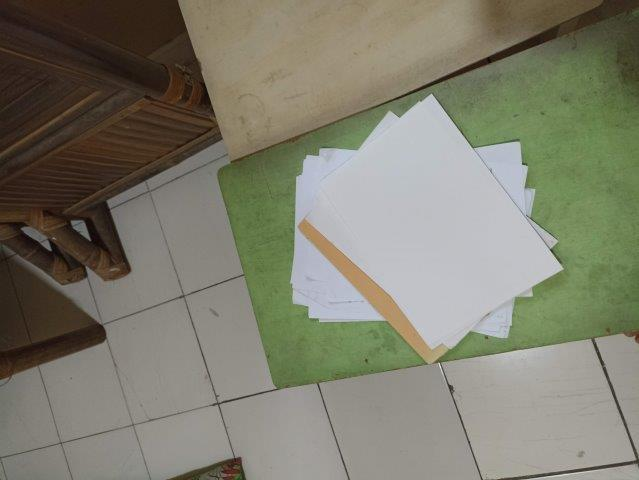kertas: (288, 94, 565, 363)
